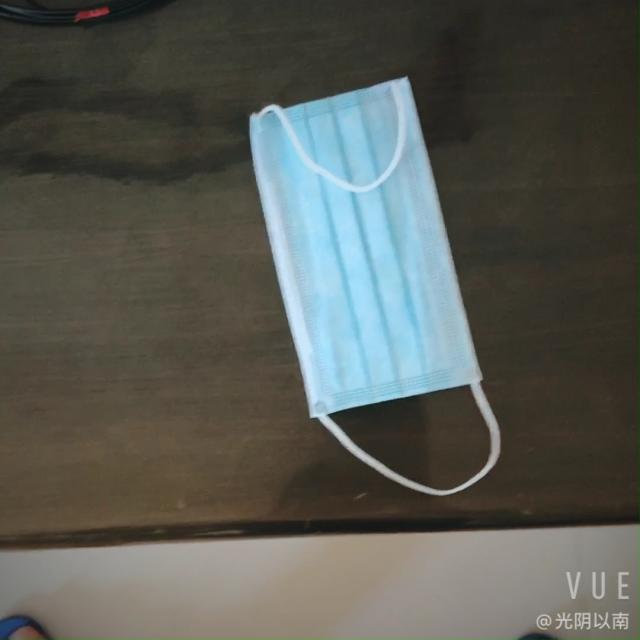non-organic waste: (230, 62, 501, 439)
